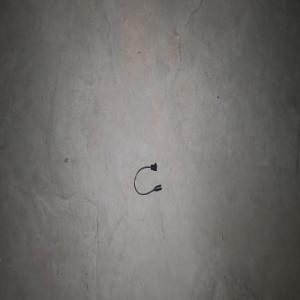Wire: (133, 162, 162, 195)
